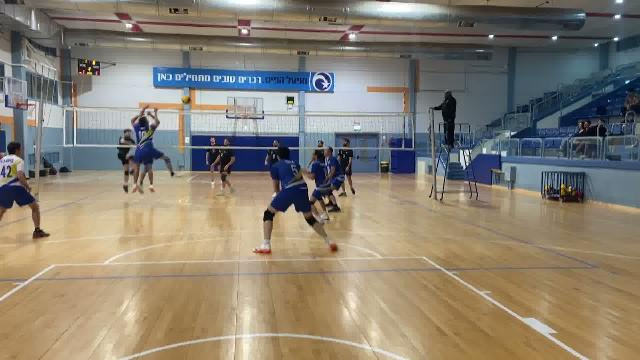ball: (181, 93, 194, 106)
